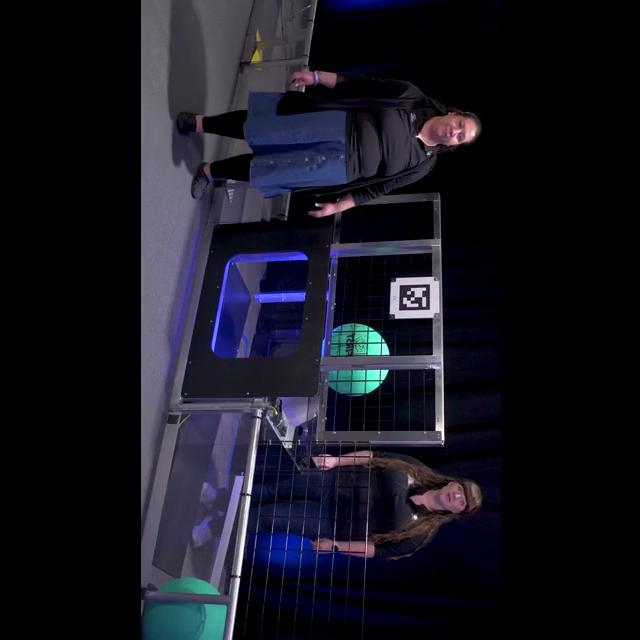ALGAE: (142, 576, 228, 640), (326, 323, 389, 397)
